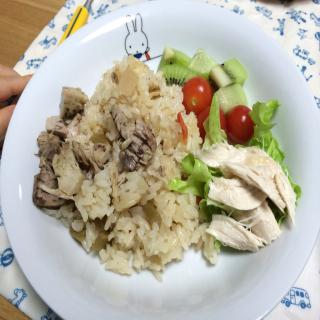tomato: (188, 74, 216, 114), (227, 105, 255, 141)
